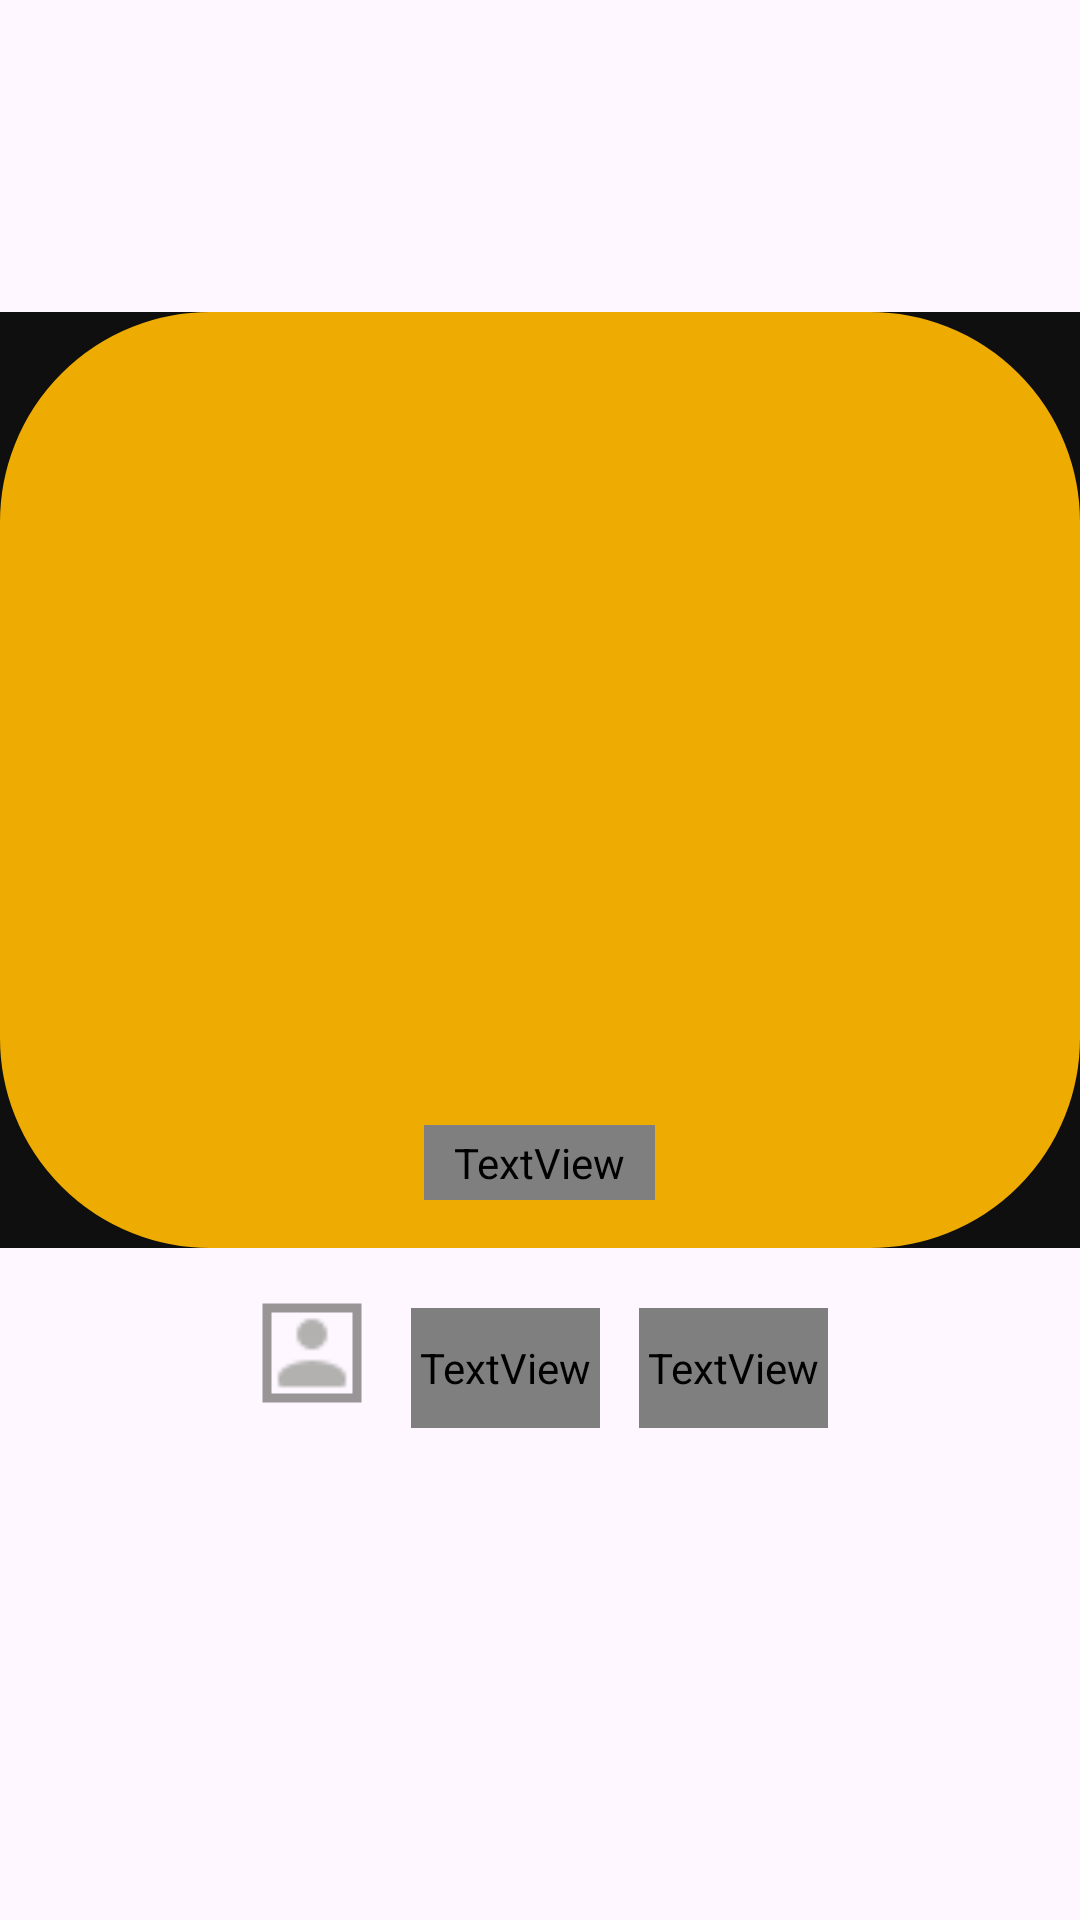

Named icons in this screenshot (1080px×1920px) and their bounding boxes, (x1, y1, x2, y2):
userintr: (262, 1303, 362, 1403)
